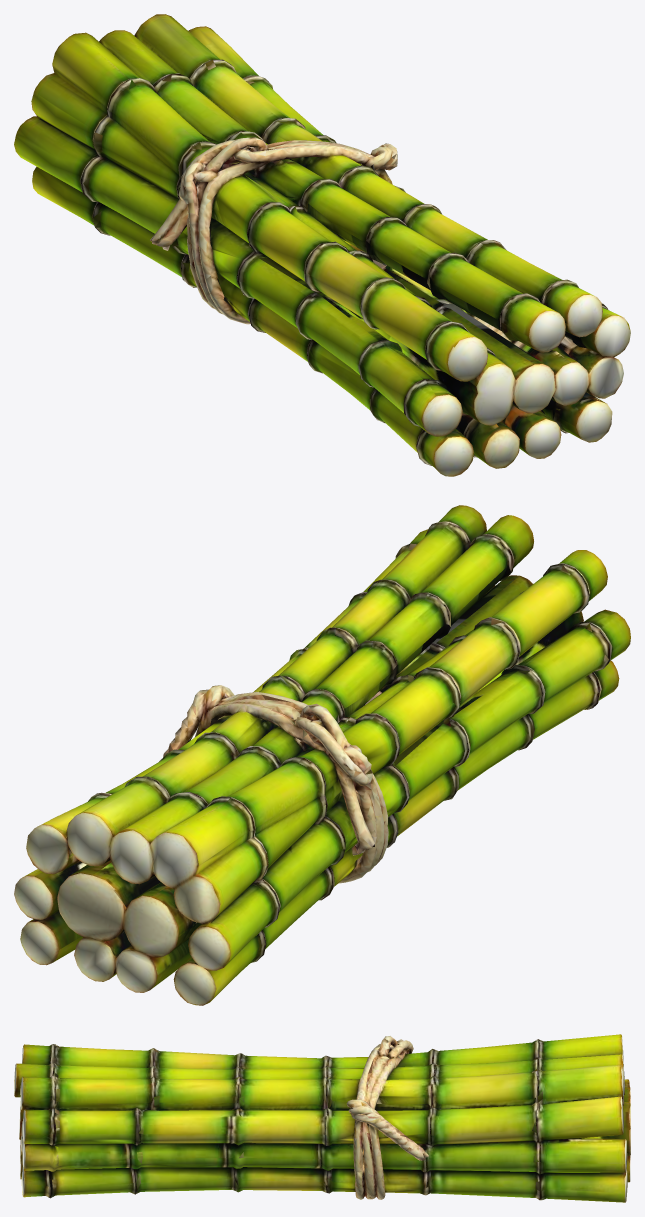
File: bamboo.glb
The picture shows the model from 3 angles, top to bottom: view 1: azimuth 30°, elevation 25°; view 2: azimuth 150°, elevation 25°; view 3: azimuth 270°, elevation 25°; orthographic projection. The views are drawn at different scales.
Visible parts, largest first — view 1: bamboo; view 2: bamboo; view 3: bamboo.
Boxes of the visible parts, left/top/right/bottom form: bamboo: left=14, top=14, right=630, bottom=476; bamboo: left=14, top=505, right=630, bottom=1005; bamboo: left=14, top=1034, right=630, bottom=1202.
Bounding box in the file's own units: 0.3131 × 0.2331 × 1.
1 material, 1 textured.
